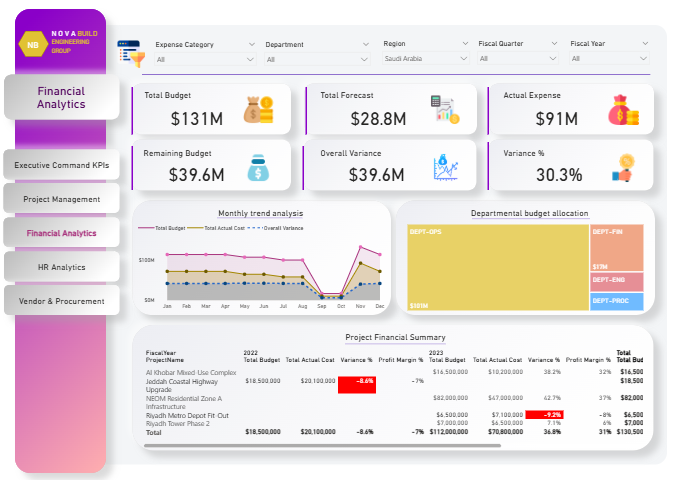

The page's visual inventory and layout, read from the dashboard file:
{"tool":"powerbi","page":{"name":"Financial Analytics","canvas":[1380,980],"ordinal":3},"visuals":[{"type":"shape","box":[63.9,68.1,61.9,51.5],"z":0,"group":"g1"},{"type":"cardVisual","fields":{"Data":["Measures Table.Total Budget"]},"box":[285.5,169.7,272.4,110.5],"z":0},{"type":"textbox","box":[74.2,80.4,40.2,35.1],"z":1000,"group":"g1"},{"type":"cardVisual","fields":{"Data":["Measures Table.Total Forecast"]},"box":[633.3,169.6,302.9,110.1],"z":1000},{"type":"textbox","box":[125.8,58.8,121.6,60.8],"z":2000,"group":"g1"},{"type":"cardVisual","fields":{"Data":["Measures Table.Total Actual Cost"]},"box":[998.8,169.4,287.1,110.6],"z":2000},{"type":"cardVisual","fields":{"Data":["Measures Table.Variance %"]},"box":[998.8,280,297.6,111.8],"z":3000},{"type":"cardVisual","fields":{"Data":["Measures Table.Budget Remaining"]},"box":[285.9,288.2,271.8,103.5],"z":4000},{"type":"lineChart","fields":{"Y":["Measures Table.Total Budget","Measures Table.Total Actual Cost","Measures Table.Overall Variance"],"Category":["DimDate.MonthShort"]},"box":[300,442.4,508.2,190.6],"z":5000},{"type":"treemap","fields":{"Group":["DimProjects.DepartmentID"],"Values":["Measures Table.Total Budget"]},"box":[838.6,450.6,481.9,181.9],"z":6000},{"type":"pivotTable","fields":{"Rows":["DimProjects.ProjectName"],"Columns":["DimDate.FiscalYear"],"Values":["Measures Table.Total Budget","Measures Table.Total Actual Cost","Measures Table.Variance %","Measures Table.Profit Margin %"]},"box":[310.6,697.6,1009.4,209.4],"z":7000},{"type":"cardVisual","fields":{"Data":["Measures Table.Overall Variance"]},"box":[628.2,288.2,307.1,103.5],"z":8000},{"type":"pageNavigator","box":[35.9,305.4,231.5,331.5],"z":9000},{"type":"textbox","box":[34.4,168.9,232.8,82],"z":10000},{"type":"shape","box":[462.8,416.7,170.5,51.3],"z":11000},{"type":"textbox","box":[311.6,179.7,198.6,34.8],"z":12000},{"type":"textbox","box":[663.5,180,198.8,35.3],"z":13000},{"type":"textbox","box":[1030.6,180,198.8,35.3],"z":14000},{"type":"textbox","box":[310.6,295.3,198.8,35.3],"z":15000},{"type":"textbox","box":[663.5,295.3,198.8,35.3],"z":16000},{"type":"textbox","box":[1029.4,295.3,198.8,35.3],"z":17000},{"type":"textbox","box":[299,415,499,33],"z":18000},{"type":"textbox","box":[838.8,415.3,498.8,32.9],"z":19000},{"type":"shape","box":[971.8,417.6,236.5,50.6],"z":20000},{"type":"textbox","box":[317.1,664.3,1002.9,32.9],"z":21000},{"type":"shape","box":[718.6,668.6,201.4,51.4],"z":22000},{"type":"image","box":[256.8,83,68.2,64.8],"z":23000},{"type":"group","id":"g1","title":"Group 3","box":[63.9,58.8,183.5,60.8],"z":24000},{"type":"shape","box":[311.7,140,1016.7,30],"z":25000},{"type":"slicer","fields":{"Values":["DimDate.FiscalYear"]},"box":[1156.6,80.3,181.6,65.8],"z":26000},{"type":"slicer","fields":{"Values":["DimDate.FiscalQuarter"]},"box":[972.4,80.3,184.2,65.8],"z":27000},{"type":"slicer","fields":{"Values":["DimRegion.Region"]},"box":[781.6,80.3,196.1,65.8],"z":28000},{"type":"slicer","fields":{"Values":["DimEmployee.DepartmentID"]},"box":[546.1,82.9,232.9,65.8],"z":29000},{"type":"slicer","fields":{"Values":["DimExpCategroy.ExpenseCategory"]},"box":[325,82.9,225,65.8],"z":30000},{"type":"image","box":[502.6,189.5,85.5,71.1],"z":31000},{"type":"image","box":[876.3,189.5,85.5,71.1],"z":32000},{"type":"image","box":[1232.9,189.5,86.8,71.1],"z":33000},{"type":"image","box":[502.6,305.3,85.5,71.1],"z":34000},{"type":"image","box":[869.7,300,100,81.6],"z":35000},{"type":"image","box":[1232.9,305.3,86.8,71.1],"z":36000}]}

Visuals, with their boxes on the page's 1380x980 design canvas (x1, y1, x2, y2). These are canvas units, not pixel positions in the 675x483 screenshot, which may show the page scaled, cropped or inside an application window:
shape: bbox(64, 68, 126, 120)
cardVisual - Measures Table.Total Budget: bbox(286, 170, 558, 280)
textbox: bbox(74, 80, 114, 116)
cardVisual - Measures Table.Total Forecast: bbox(633, 170, 936, 280)
textbox: bbox(126, 59, 247, 120)
cardVisual - Measures Table.Total Actual Cost: bbox(999, 169, 1286, 280)
cardVisual - Measures Table.Variance %: bbox(999, 280, 1296, 392)
cardVisual - Measures Table.Budget Remaining: bbox(286, 288, 558, 392)
lineChart - Measures Table.Total Budget x Measures Table.Total Actual Cost: bbox(300, 442, 808, 633)
treemap - DimProjects.DepartmentID x Measures Table.Total Budget: bbox(839, 451, 1320, 632)
pivotTable - DimProjects.ProjectName x DimDate.FiscalYear: bbox(311, 698, 1320, 907)
cardVisual - Measures Table.Overall Variance: bbox(628, 288, 935, 392)
pageNavigator: bbox(36, 305, 267, 637)
textbox: bbox(34, 169, 267, 251)
shape: bbox(463, 417, 633, 468)
textbox: bbox(312, 180, 510, 214)
textbox: bbox(664, 180, 862, 215)
textbox: bbox(1031, 180, 1229, 215)
textbox: bbox(311, 295, 509, 331)
textbox: bbox(664, 295, 862, 331)
textbox: bbox(1029, 295, 1228, 331)
textbox: bbox(299, 415, 798, 448)
textbox: bbox(839, 415, 1338, 448)
shape: bbox(972, 418, 1208, 468)
textbox: bbox(317, 664, 1320, 697)
shape: bbox(719, 669, 920, 720)
image: bbox(257, 83, 325, 148)
"Group 3" group: bbox(64, 59, 247, 120)
shape: bbox(312, 140, 1328, 170)
slicer - DimDate.FiscalYear: bbox(1157, 80, 1338, 146)
slicer - DimDate.FiscalQuarter: bbox(972, 80, 1157, 146)
slicer - DimRegion.Region: bbox(782, 80, 978, 146)
slicer - DimEmployee.DepartmentID: bbox(546, 83, 779, 149)
slicer - DimExpCategroy.ExpenseCategory: bbox(325, 83, 550, 149)
image: bbox(503, 190, 588, 261)
image: bbox(876, 190, 962, 261)
image: bbox(1233, 190, 1320, 261)
image: bbox(503, 305, 588, 376)
image: bbox(870, 300, 970, 382)
image: bbox(1233, 305, 1320, 376)
